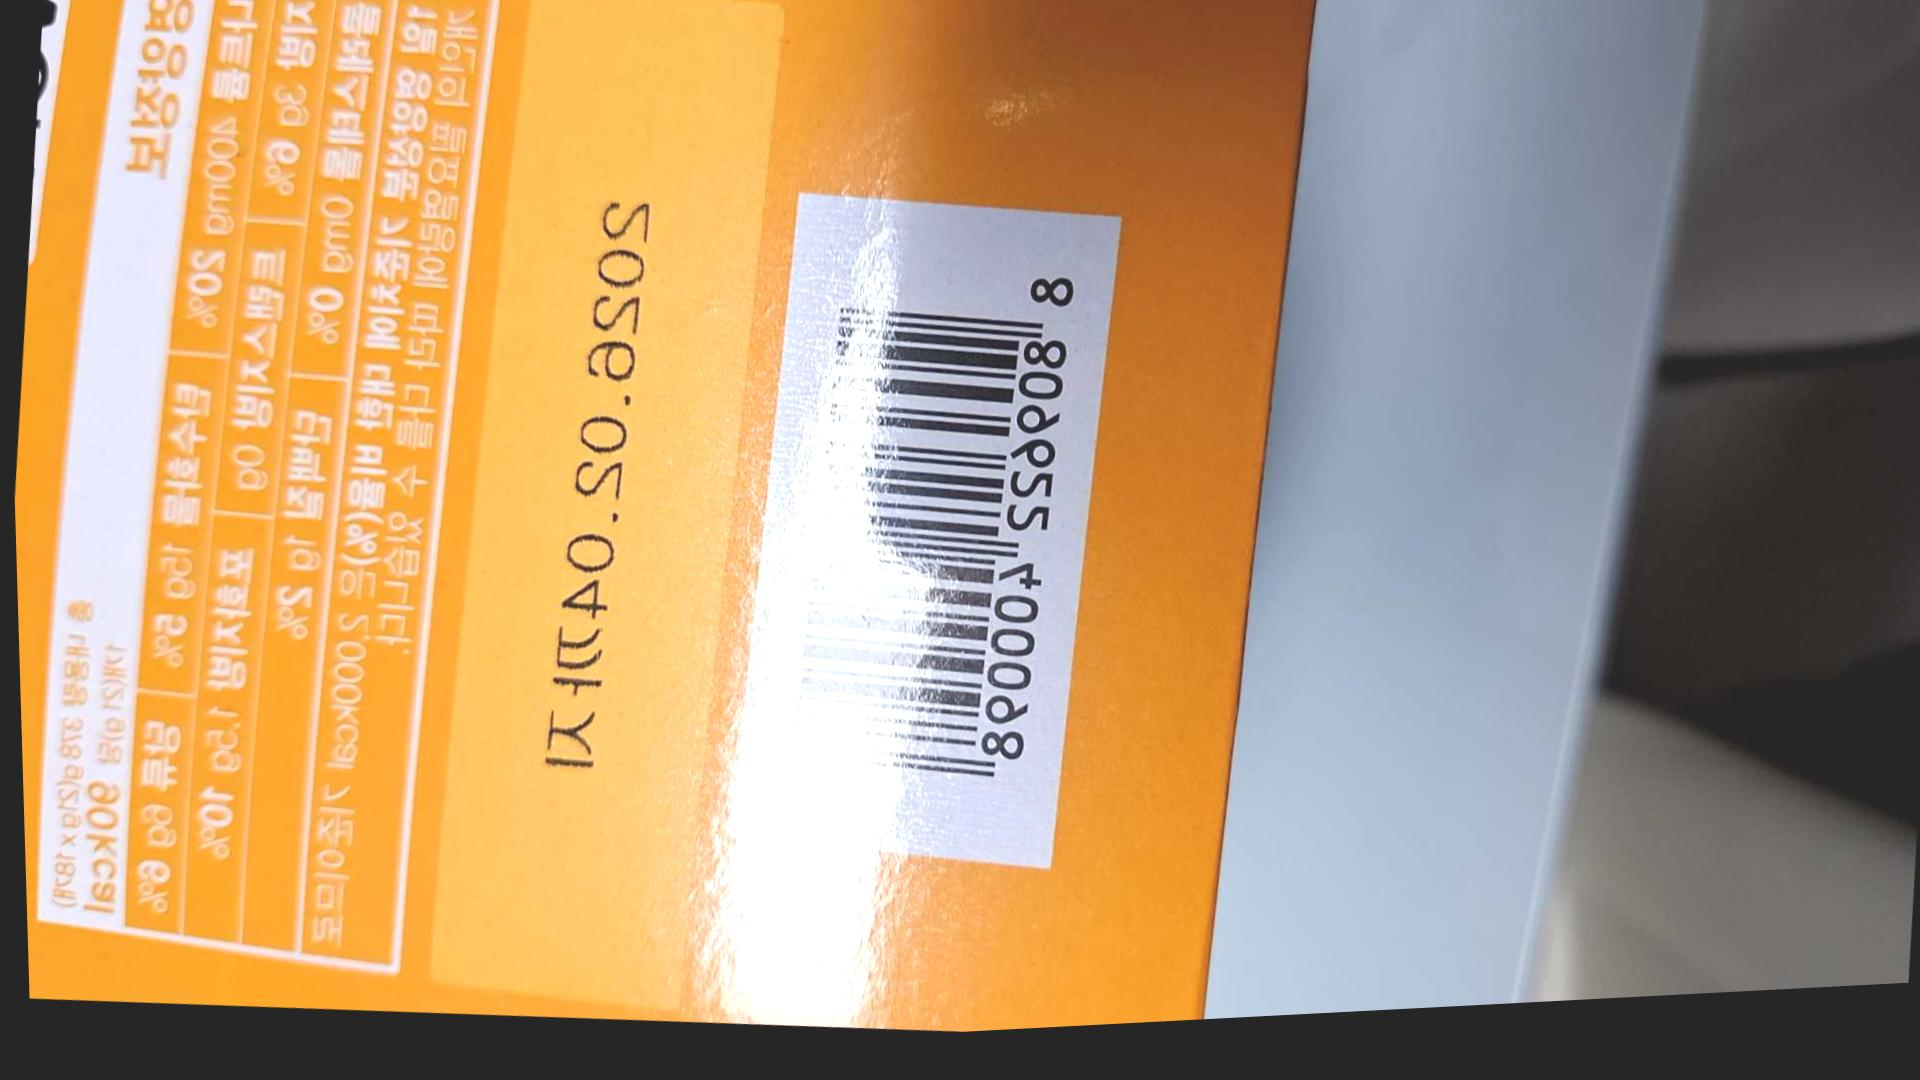cola-2000-2025-7-8: (757, 236, 1122, 818)
